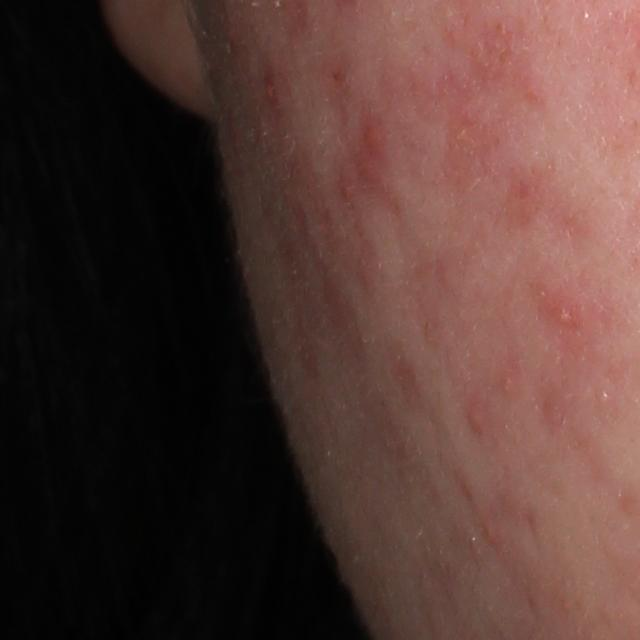papule: (365, 124, 385, 160), (466, 403, 485, 432), (482, 520, 500, 543), (339, 177, 356, 201)
